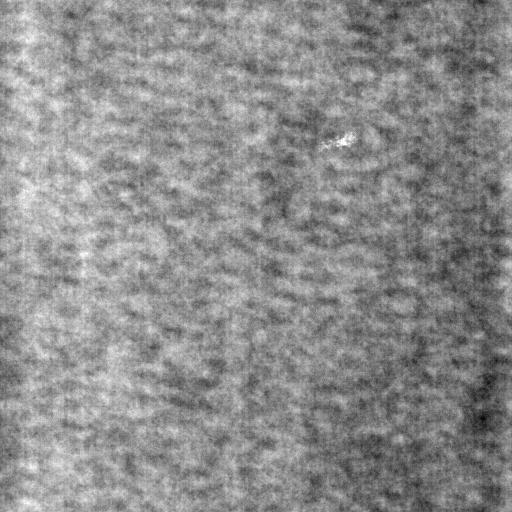DefectTypeA: (311, 132, 360, 151)
